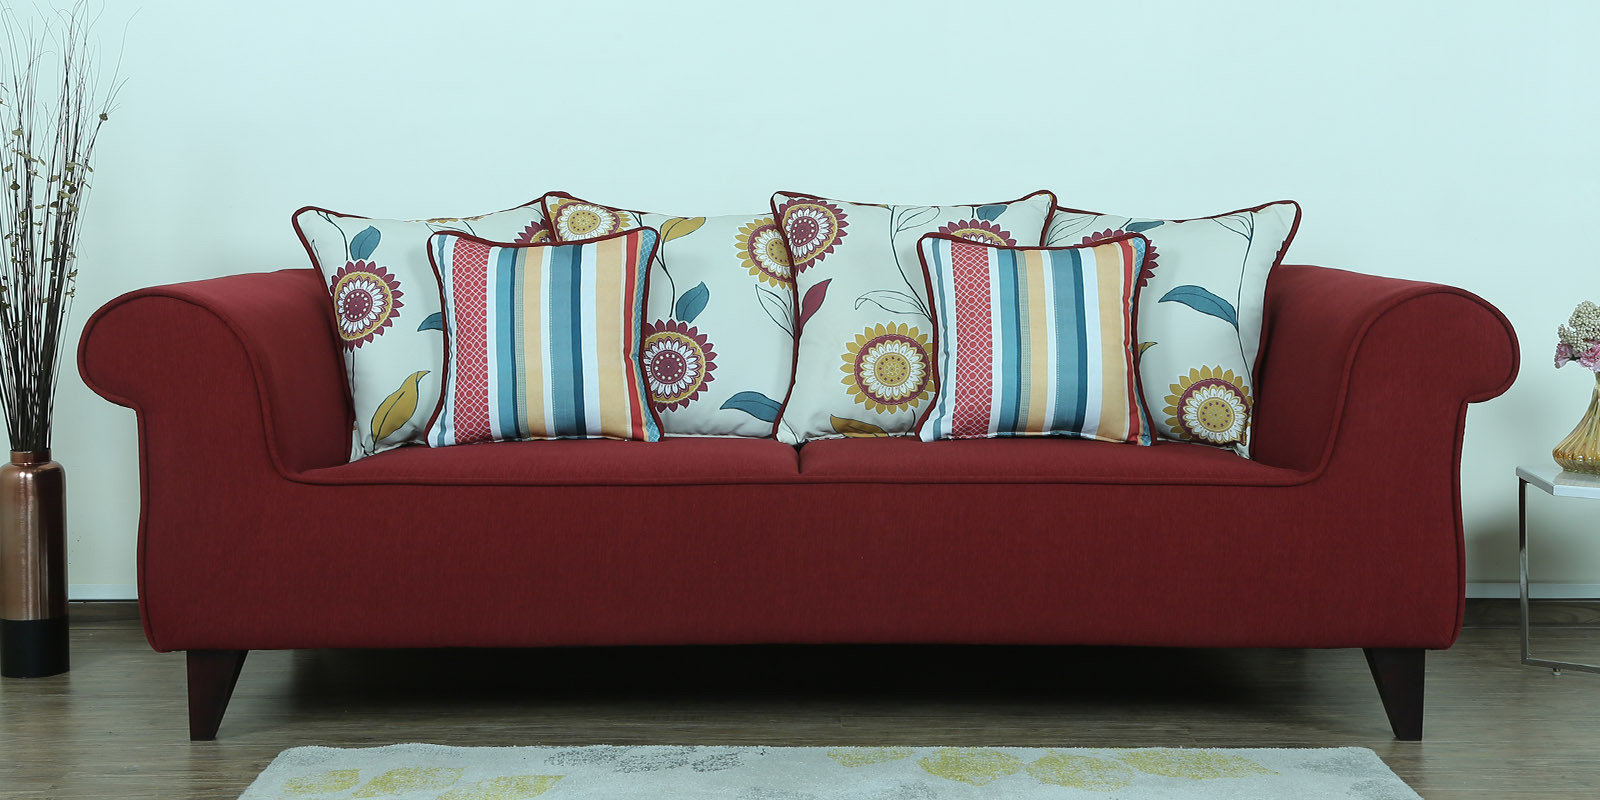Cielo Three Seater Sofa in Garnet Red Colour by CasaCraft: (63, 201, 1533, 726)
